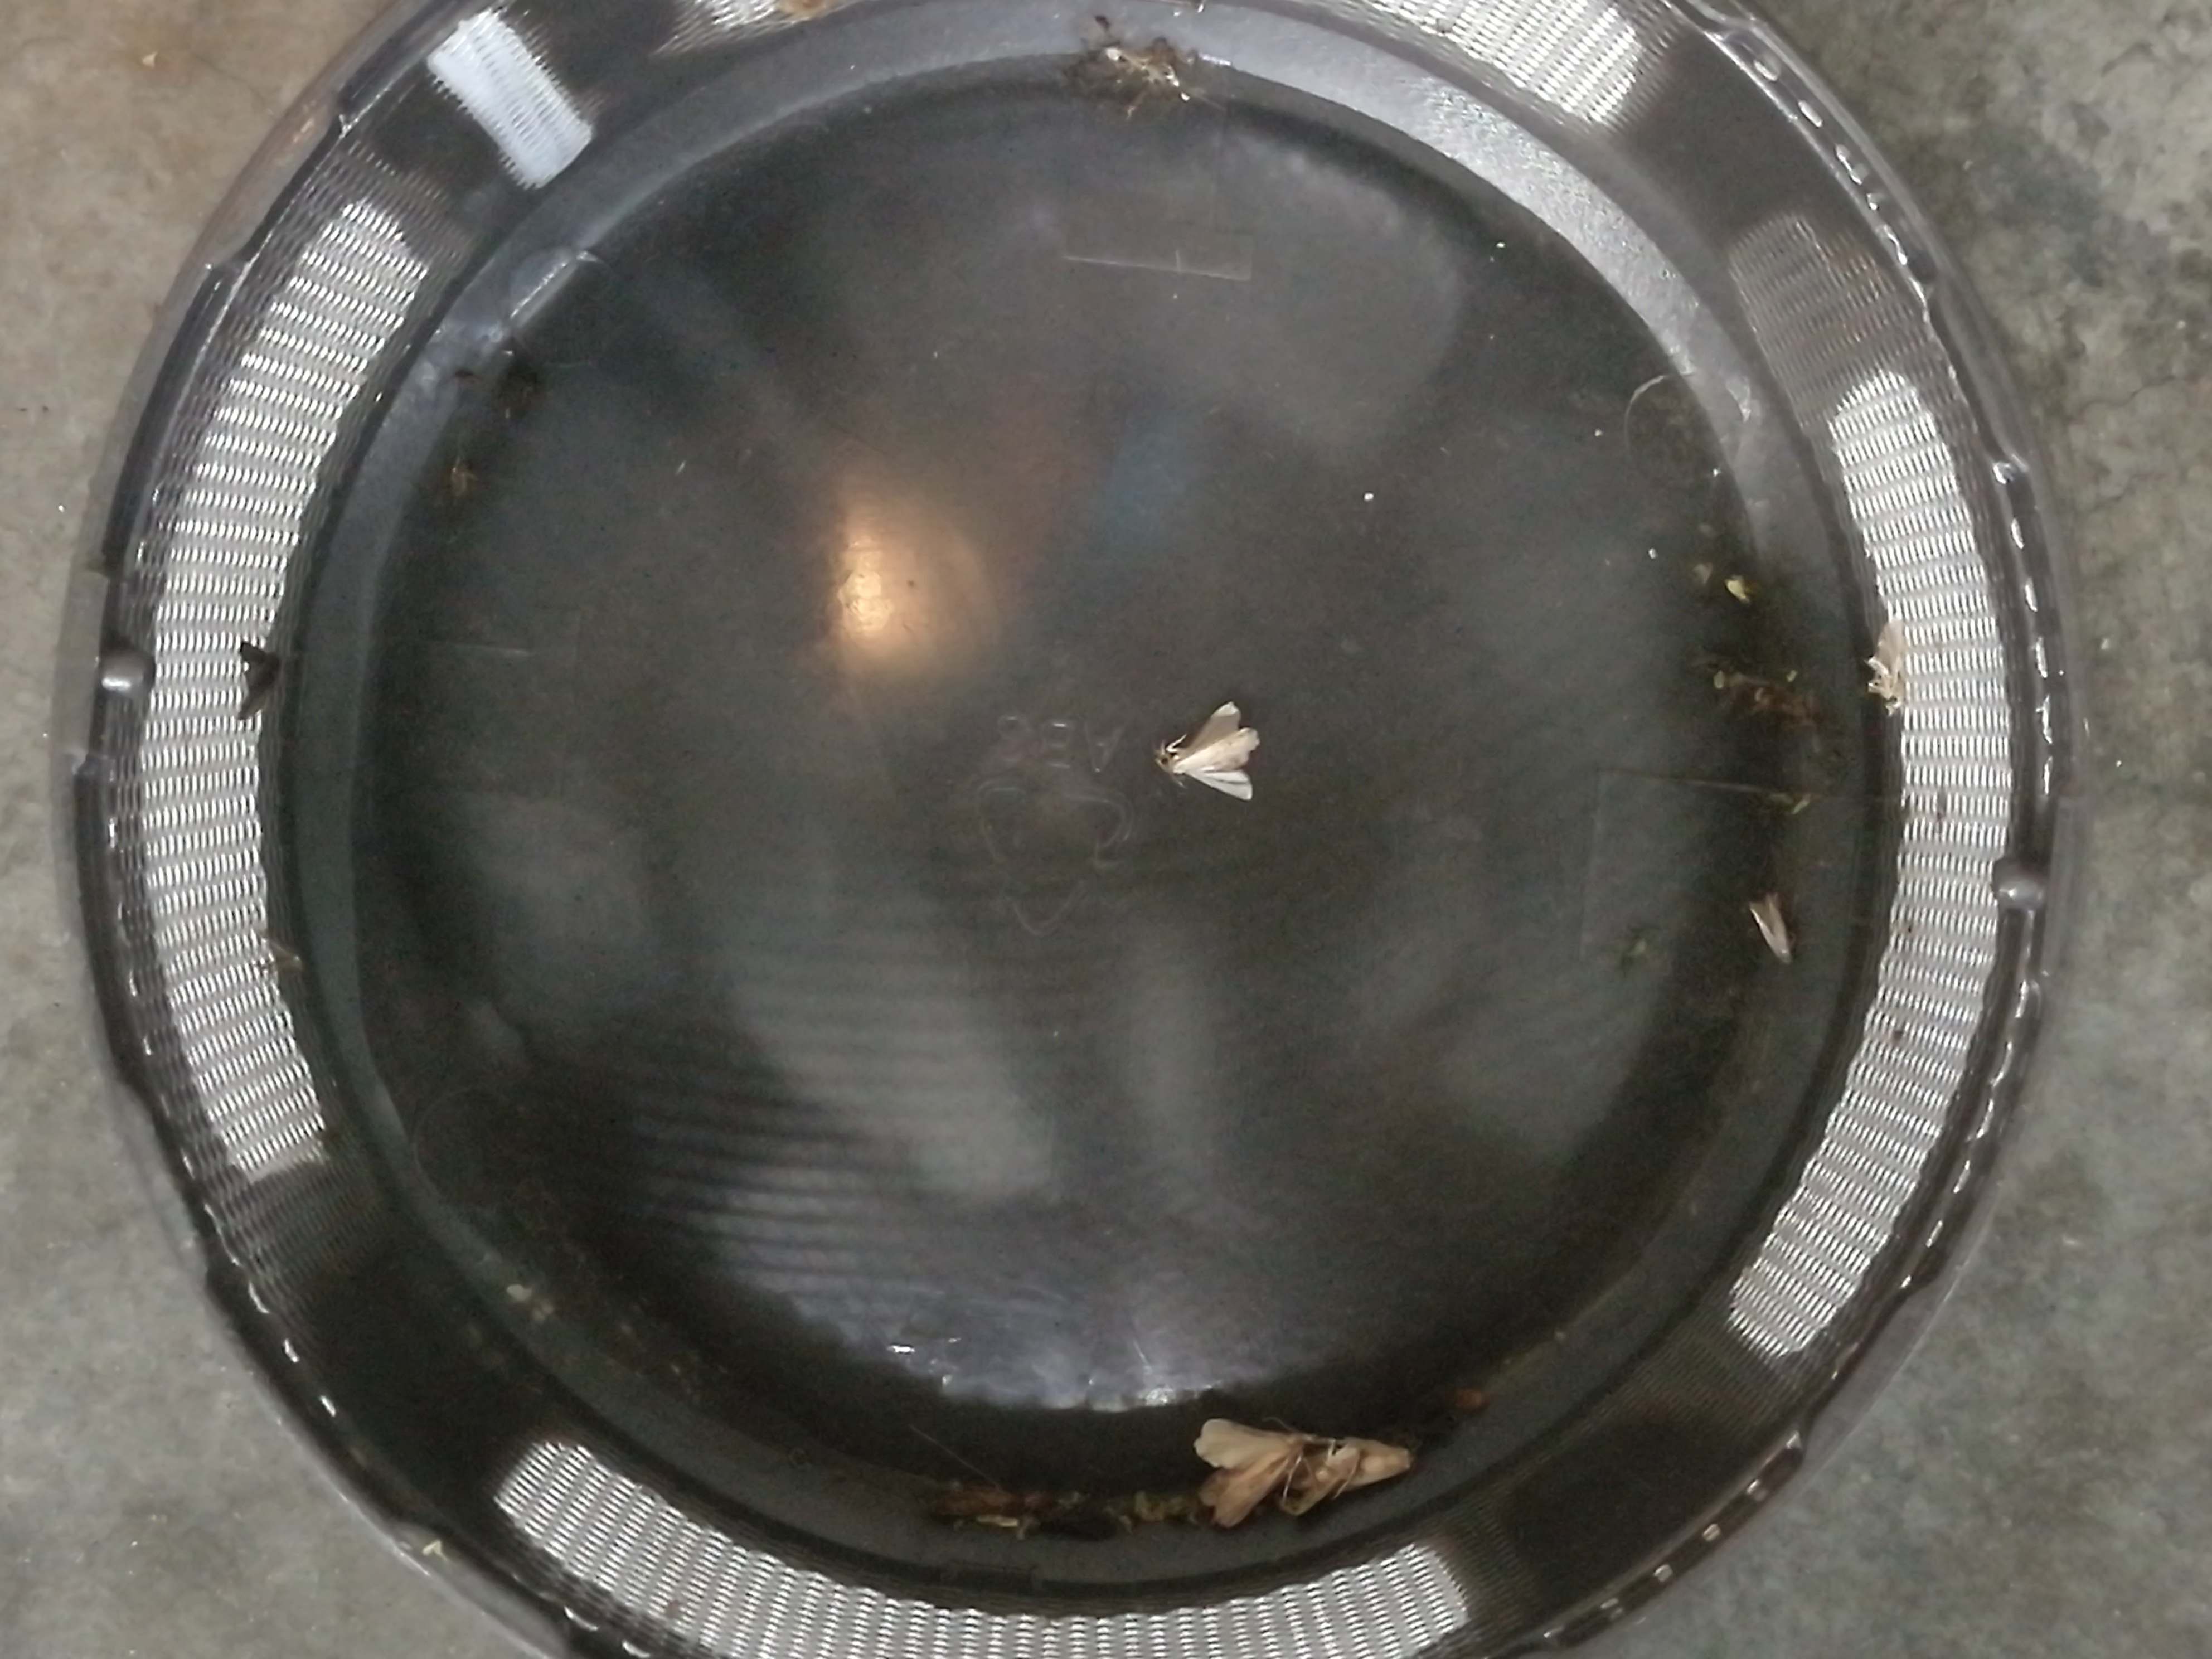moth: (1195, 1420, 1292, 1528), (1162, 701, 1259, 798), (1305, 1434, 1414, 1507)
